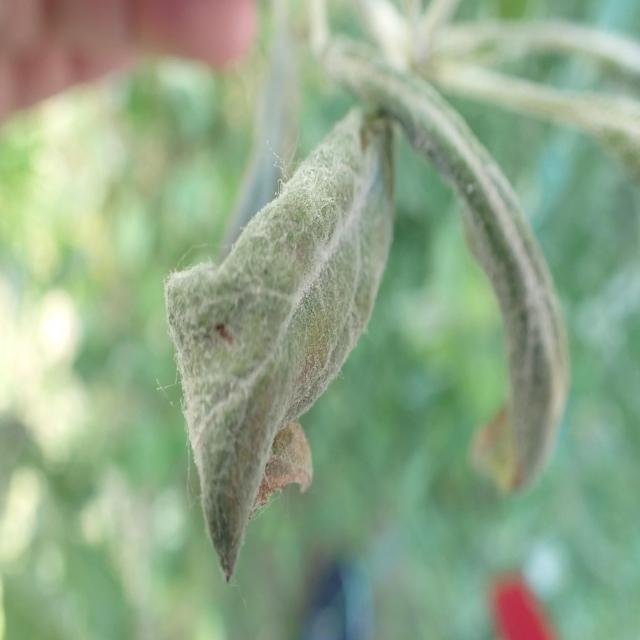Powdery_mildew: (158, 39, 397, 586), (351, 67, 580, 496)
